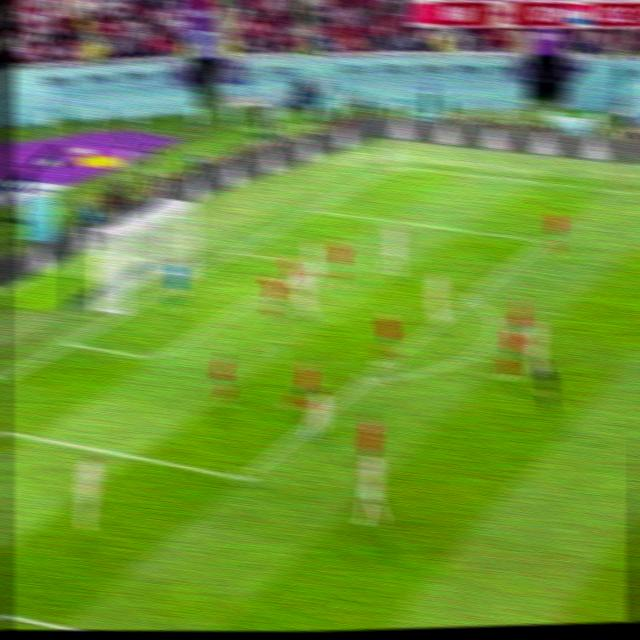bigarea_bottom_inner: (230, 463, 256, 491)
bigarea_top_inner: (534, 232, 553, 249)
bigarea_top_outter: (306, 203, 323, 214)
bottom_arc_area_intersection: (355, 371, 376, 388)
corner: (387, 164, 404, 170)
smallarea_bottom_inner: (145, 344, 169, 370)
smallarea_bottom_outter: (58, 333, 81, 350)
smallarea_top_inner: (301, 259, 318, 271)
smallarea_top_outter: (227, 244, 246, 257)
top_arc_area_intersection: (461, 287, 480, 305)
